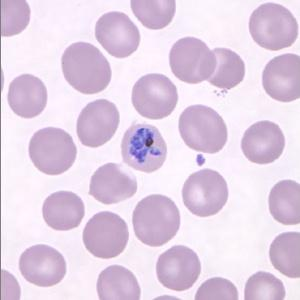Infected: (119, 123, 167, 174)
Uninfected: (60, 42, 111, 94), (133, 193, 180, 247), (179, 105, 229, 154), (179, 168, 228, 217), (248, 3, 299, 50), (28, 126, 77, 174), (76, 99, 121, 149), (131, 72, 178, 119), (94, 11, 140, 59), (169, 37, 215, 85), (83, 213, 129, 259), (156, 244, 201, 290), (90, 163, 139, 204), (19, 243, 65, 286), (201, 46, 246, 89), (241, 121, 285, 164), (7, 73, 47, 119), (262, 54, 300, 102), (42, 190, 84, 232), (97, 265, 142, 300), (267, 179, 300, 224), (269, 232, 300, 278), (131, 0, 177, 30), (243, 272, 285, 300)
